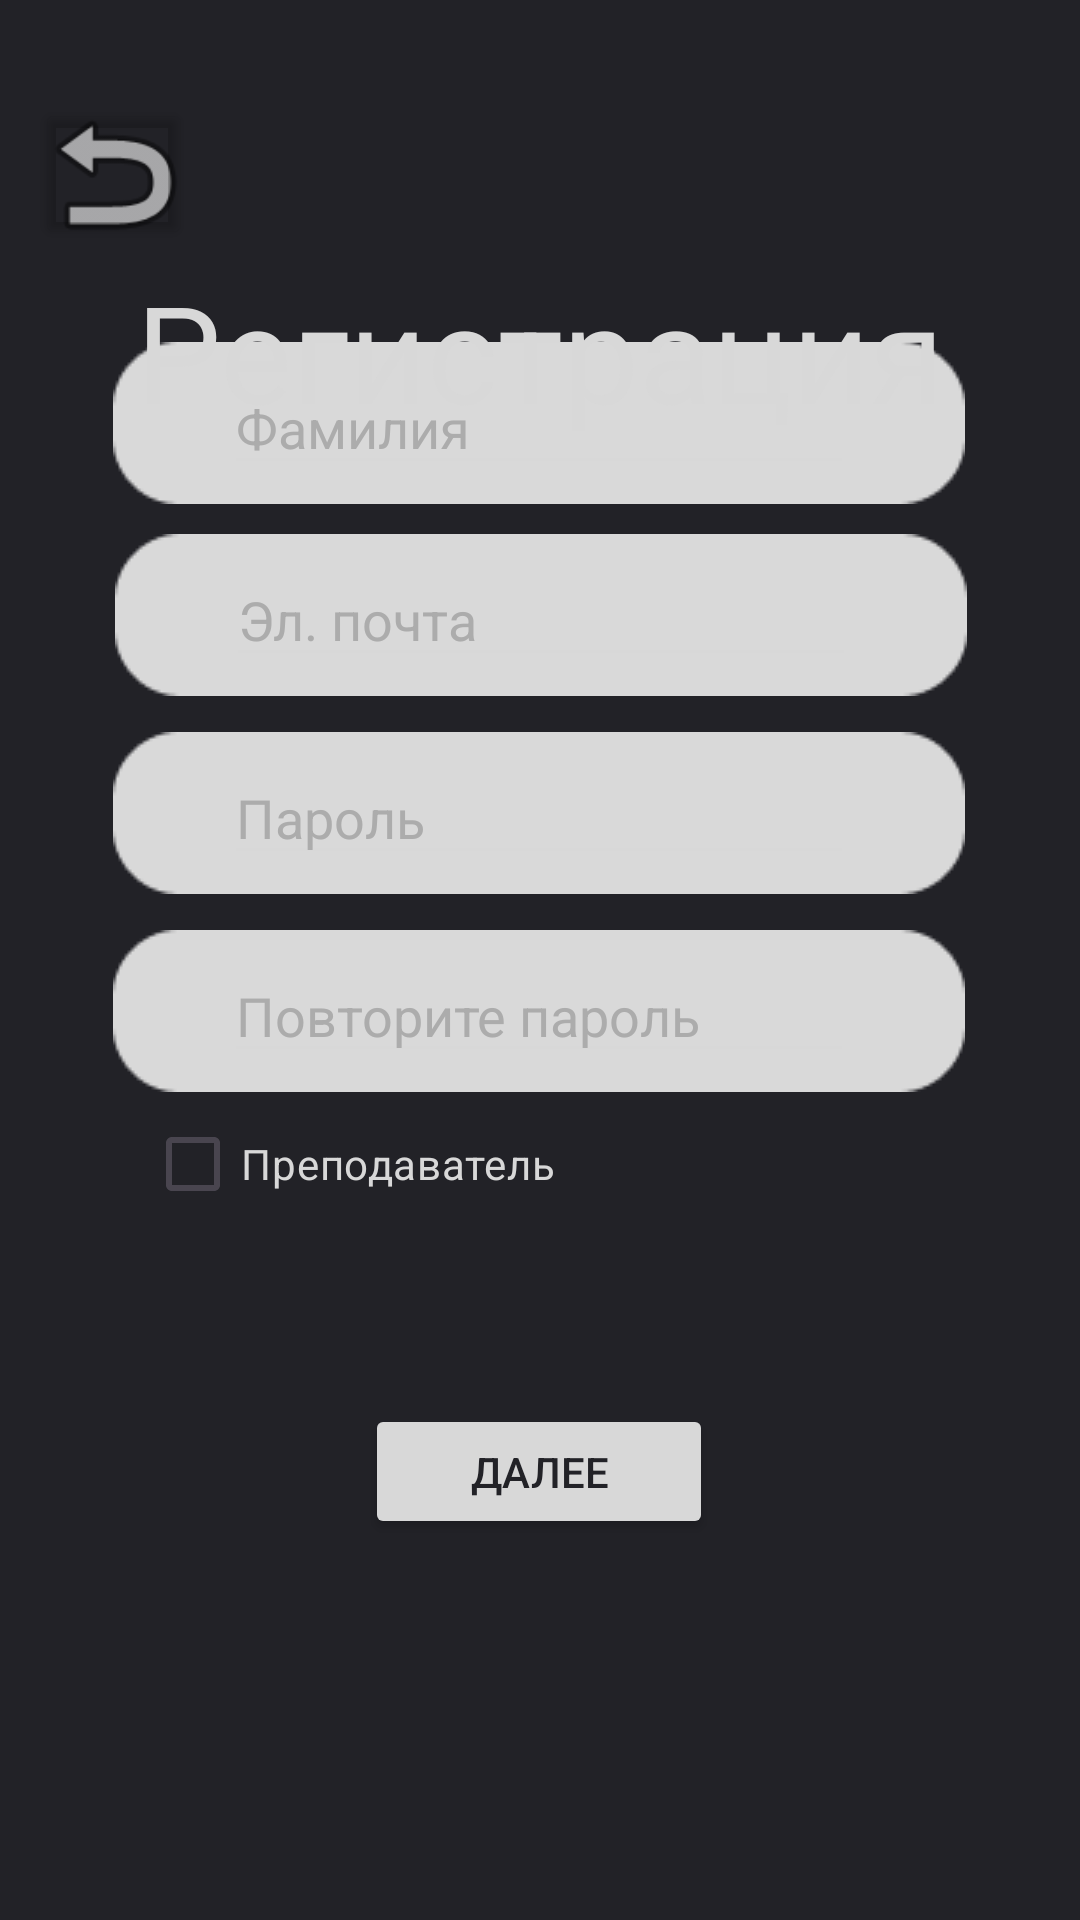

Icons on this 1080 × 1920 Android screen, each with its box as (x1, y1, x2, y2):
revert: (61, 126, 171, 225)
